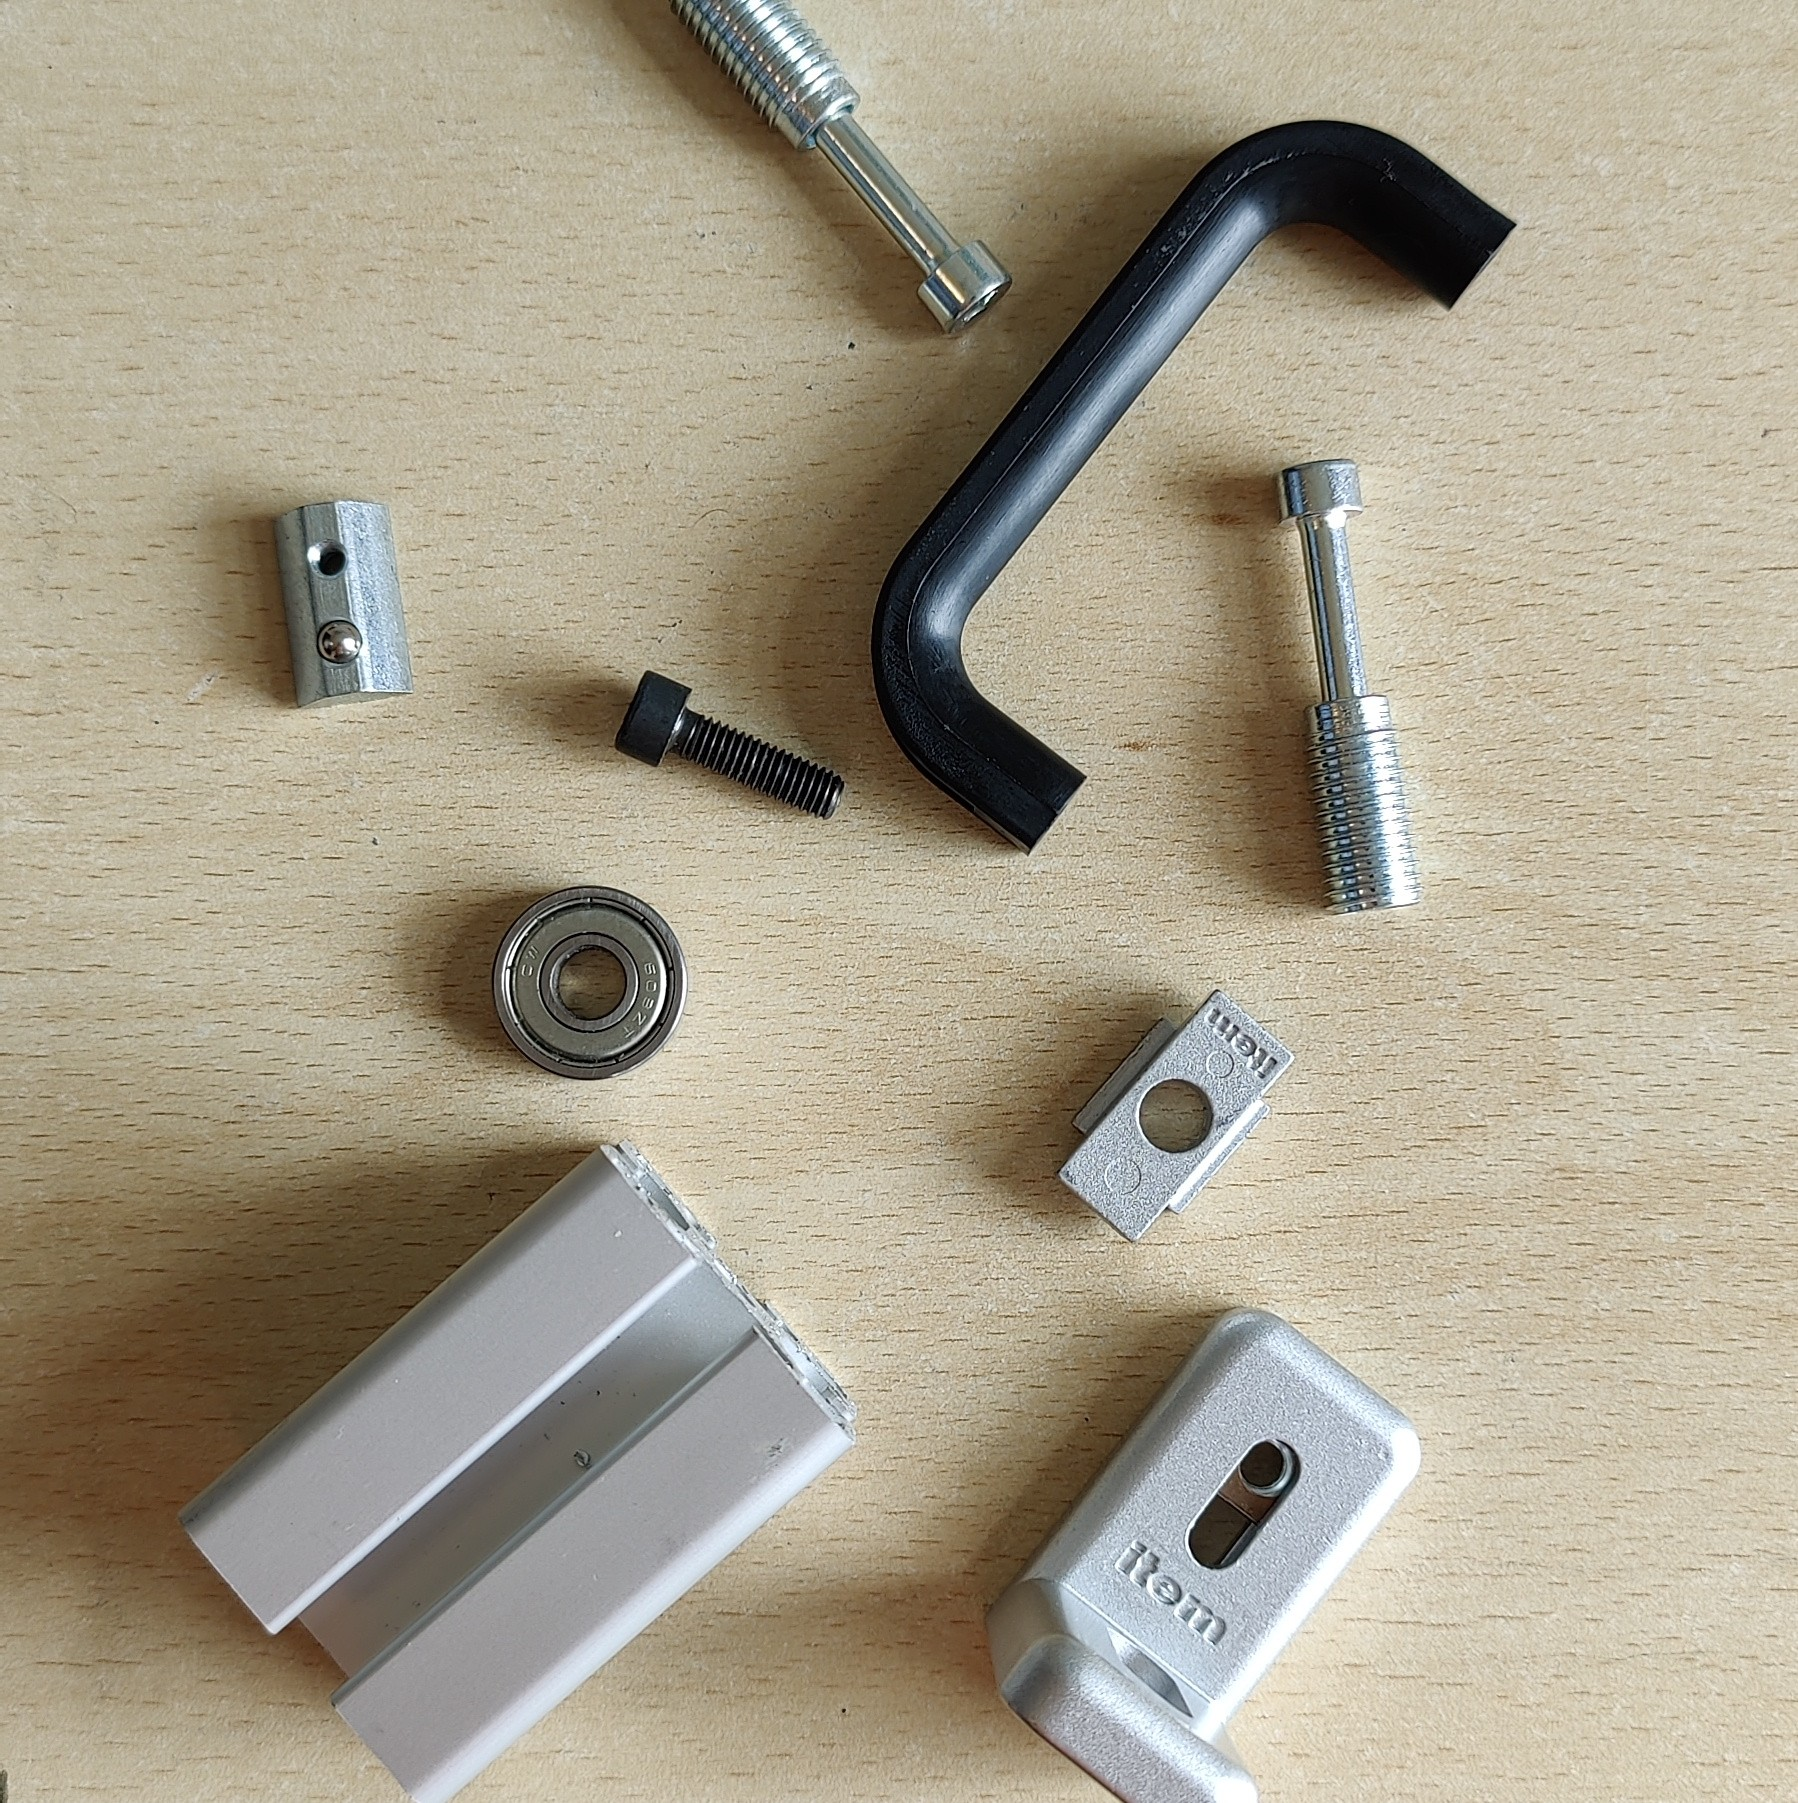Aluminium Extension: (170, 1133, 861, 1803)
Ball Bearing: (487, 884, 688, 1083)
Multiwinkel: (980, 1304, 1424, 1803)
Pull Handle: (869, 115, 1520, 856)
Shoulder Socket Head Cap Screw: (659, 2, 1014, 344), (1268, 454, 1429, 919)
Socket Head Cap Screw: (611, 667, 846, 825)
T Nut Square: (1047, 985, 1297, 1246)
T Spring Nut: (268, 497, 418, 711)
